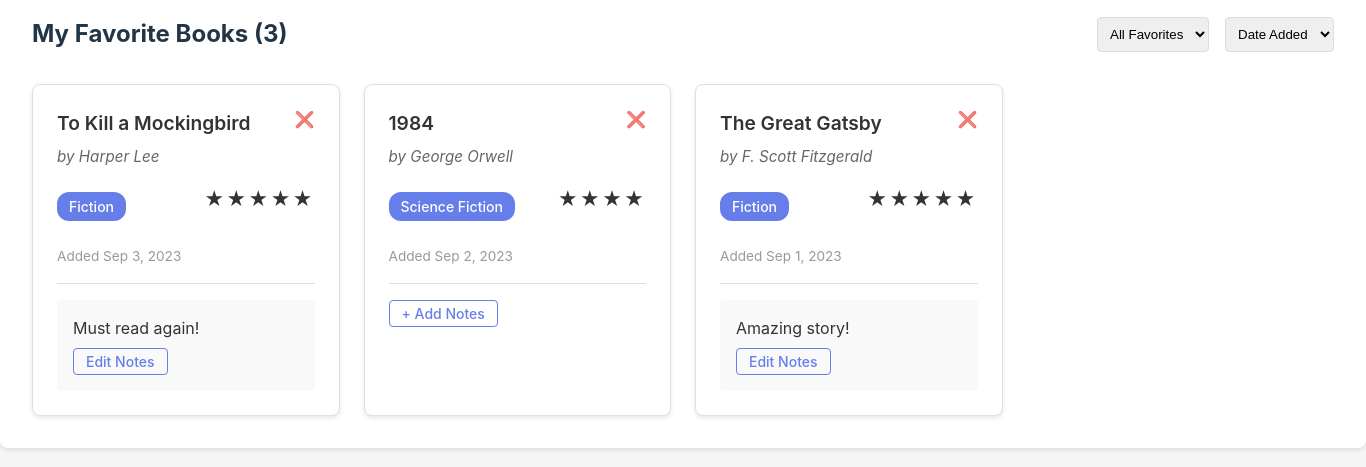
FavoritesList › filters to show only favorites with notes
Select "With Notes" in the 1st dropdown: [1153, 34] box [1097,16,1209,52]
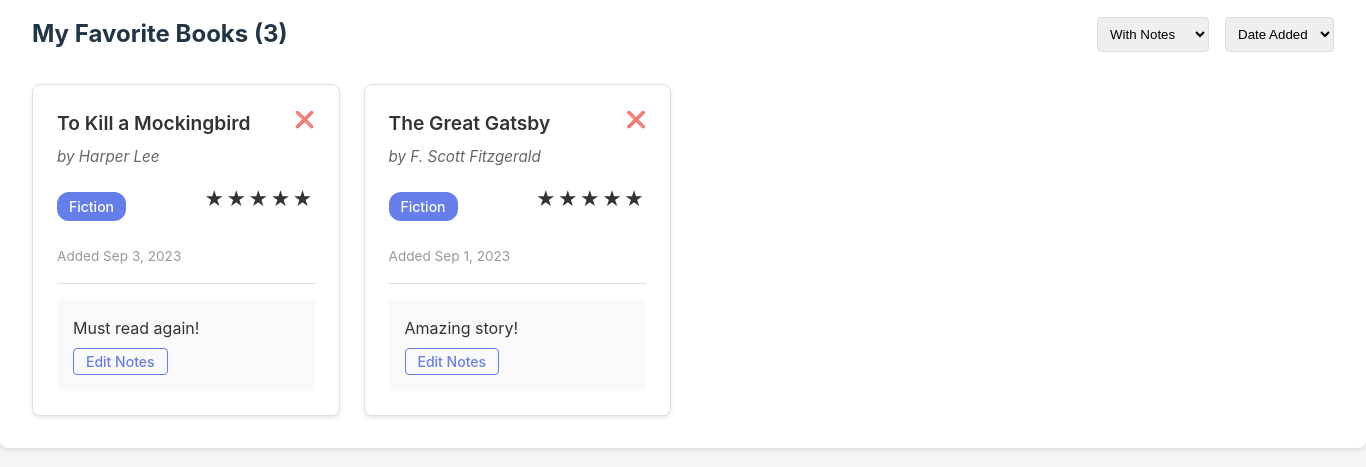
Expected: the heading "The Great Gatsby" is shown, [388,109,550,138]
Expected: the heading "1984" is gone
